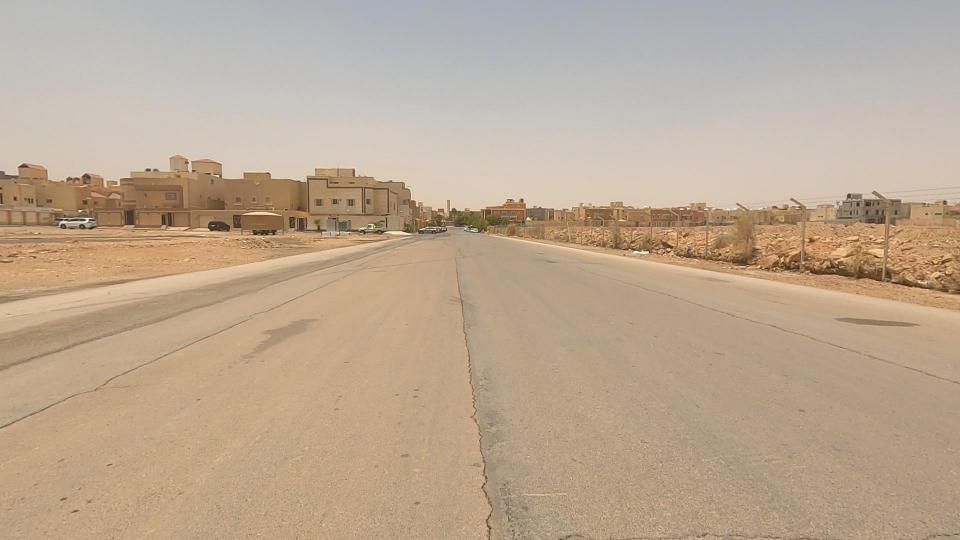GARBAGE: (607, 219, 673, 279)
